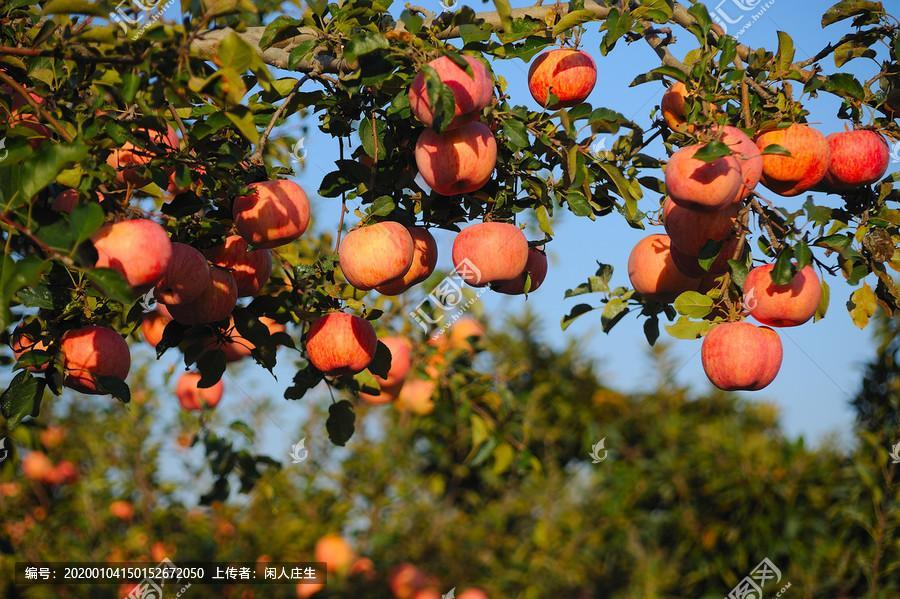apple: (340, 219, 429, 296), (414, 119, 497, 193), (701, 320, 784, 391), (232, 177, 312, 250), (411, 53, 484, 133), (91, 216, 171, 288), (741, 260, 824, 326), (452, 221, 530, 291), (664, 143, 741, 213), (57, 324, 130, 394), (628, 231, 698, 300), (305, 311, 377, 375), (528, 48, 598, 107), (164, 265, 231, 323), (657, 77, 723, 133), (156, 238, 213, 302), (826, 129, 888, 186), (756, 123, 811, 186)
